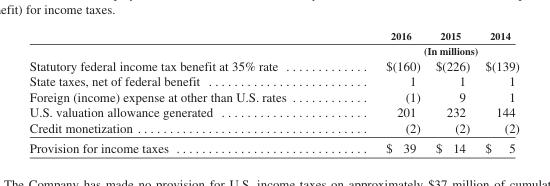table: (28, 28, 518, 155)
table column: (28, 28, 335, 155), (335, 28, 427, 155), (427, 28, 476, 155), (476, 28, 518, 155)
table column header: (28, 28, 518, 57)
table row: (28, 119, 518, 137), (28, 137, 518, 155), (28, 72, 518, 88), (28, 103, 518, 119), (28, 42, 518, 57), (28, 57, 518, 72), (28, 88, 518, 103), (28, 28, 518, 42)
table spanning cell: (335, 42, 518, 57)
